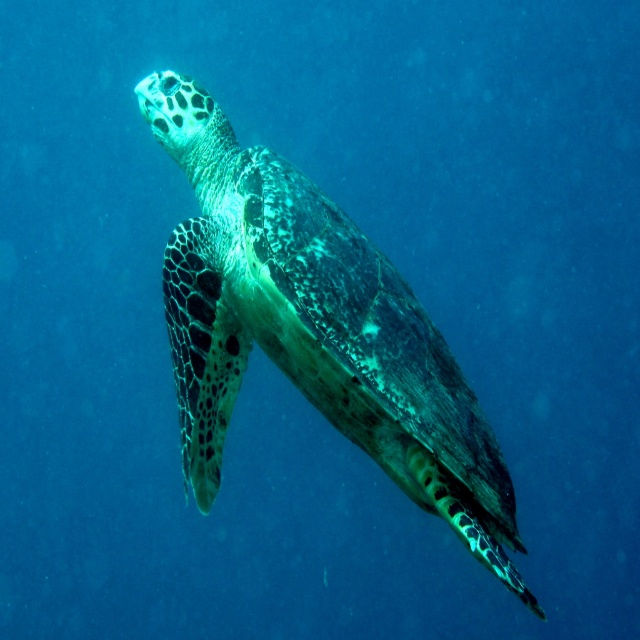Sea turtle: (132, 64, 548, 624)
